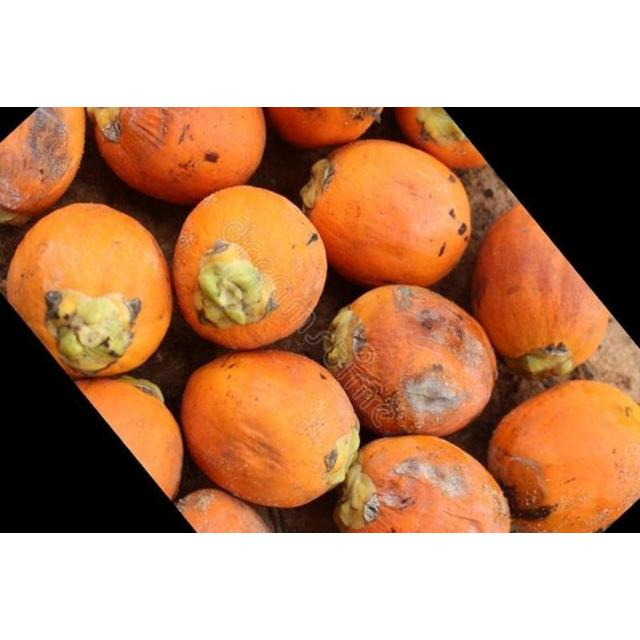good: (10, 204, 172, 376), (182, 352, 356, 508), (323, 284, 495, 436), (304, 140, 471, 286), (173, 186, 323, 348), (472, 206, 606, 376), (488, 381, 638, 531), (335, 435, 509, 531), (92, 108, 264, 204), (74, 376, 182, 500), (2, 108, 86, 224), (394, 108, 484, 170), (262, 108, 382, 148), (177, 490, 276, 532), (88, 107, 138, 173)
